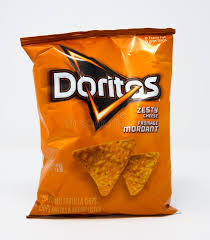Doritos: (32, 26, 182, 210)
